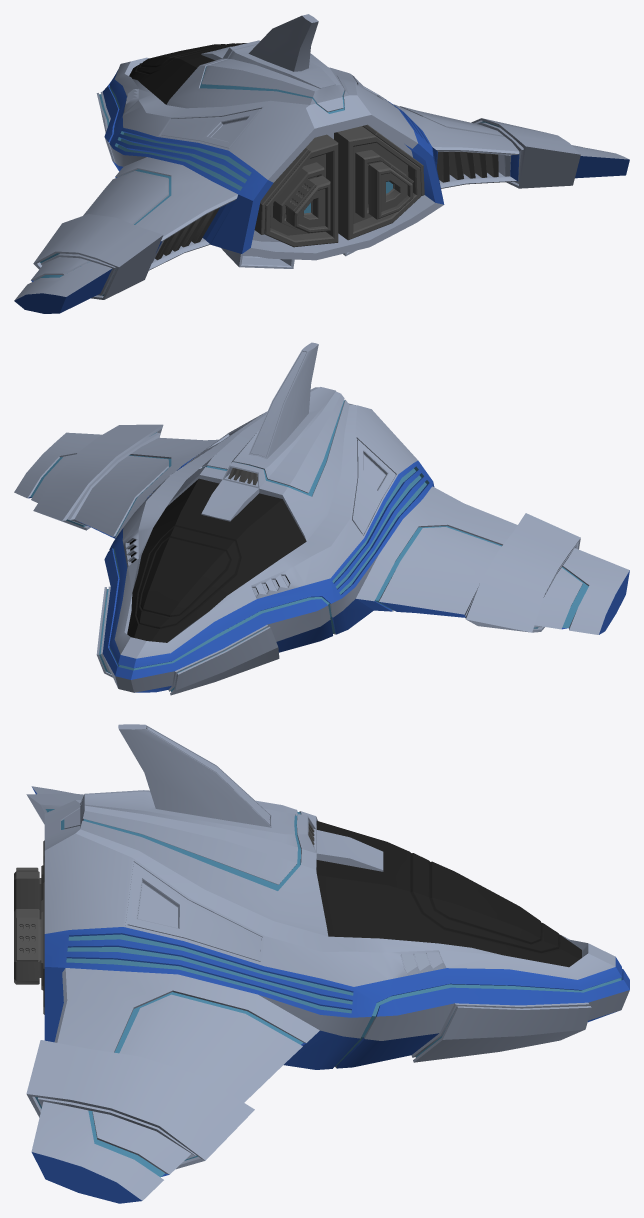
File: spaceship.obj
3 views of the same model, one above another, from view 1: azimuth 30°, elevation 25°; view 2: azimuth 150°, elevation 25°; view 3: azimuth 270°, elevation 25° (orthographic). The views are drawn at different scales.
Parts seen in each view (by area): view 1: Spaceship_Plane; view 2: Spaceship_Plane; view 3: Spaceship_Plane.
Part boxes in pixels (left/top/right/bottom): Spaceship_Plane: left=14, top=14, right=629, bottom=313; Spaceship_Plane: left=14, top=342, right=629, bottom=695; Spaceship_Plane: left=14, top=724, right=629, bottom=1203.
Bounding box in the file's own units: 2.17 × 0.844 × 1.49.
